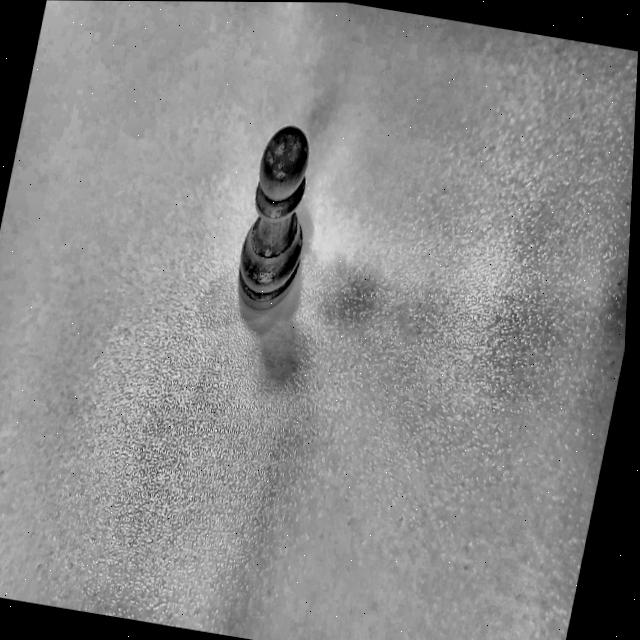black-pawn: (223, 116, 333, 327)
